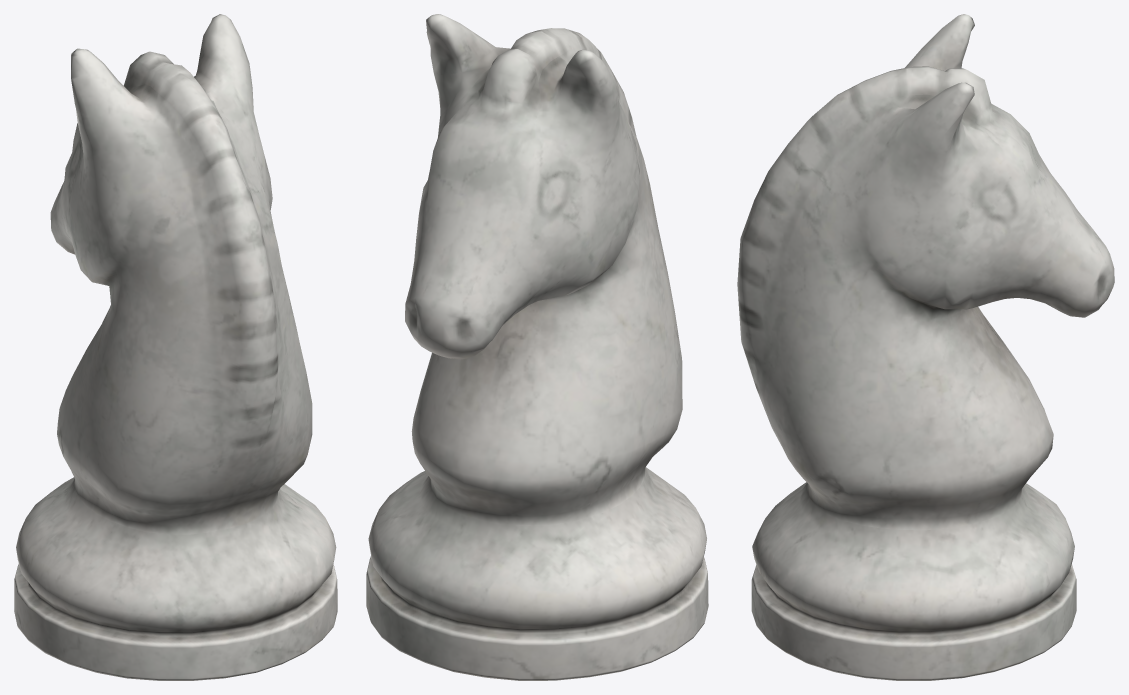
The model's file is knight.gltf.
3 views of the same model, side by side, from view 1: azimuth 30°, elevation 25°; view 2: azimuth 150°, elevation 25°; view 3: azimuth 270°, elevation 25° (orthographic). The views are drawn at different scales.
Parts seen in each view (by area): view 1: knight; view 2: knight; view 3: knight.
Part boxes in pixels (<box>): knight: <box>14,14,337,680</box>; knight: <box>366,14,708,680</box>; knight: <box>737,14,1114,680</box>.
Bounding box in the file's own units: 0.3879 × 0.75 × 0.4538.
